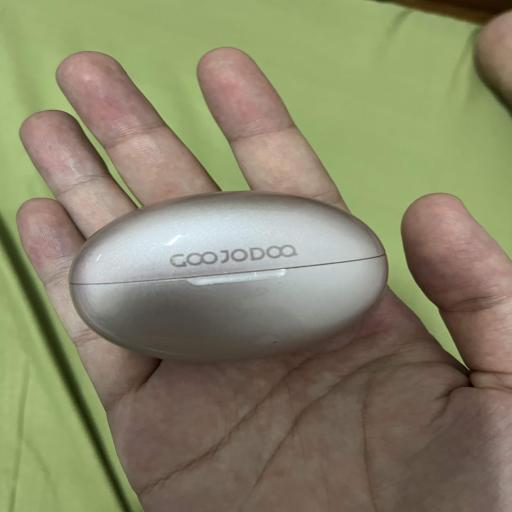GOOJODOQ: (69, 191, 387, 361)
